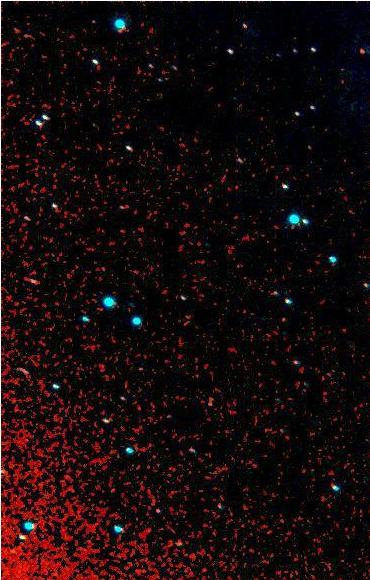star: (347, 36, 370, 66)
